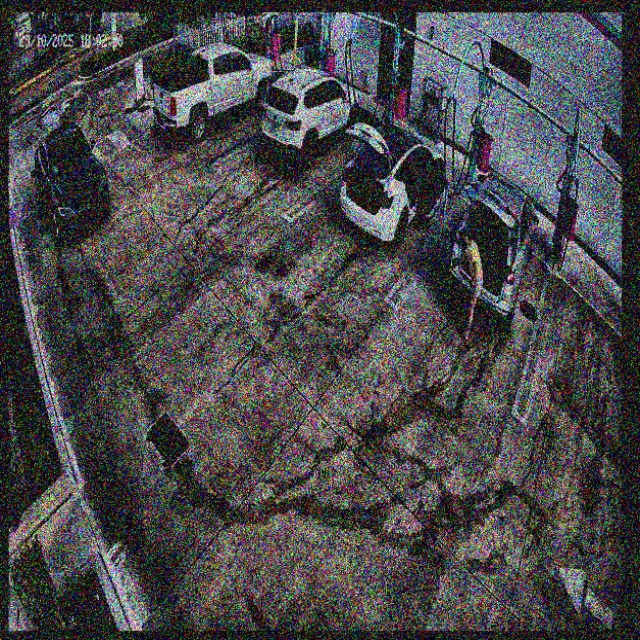Car: (338, 121, 445, 253), (451, 166, 535, 327), (262, 65, 359, 165)
